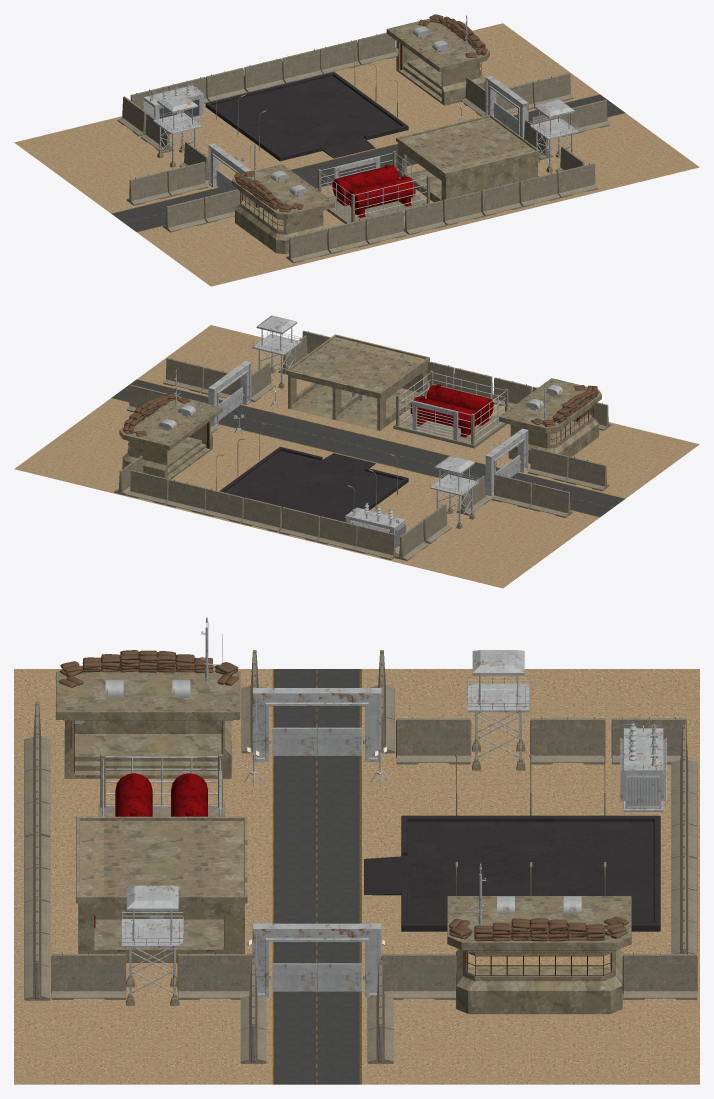
The model's file is Military_Post.glb.
3 views of the same model, one above another, from view 1: azimuth 30°, elevation 25°; view 2: azimuth 150°, elevation 25°; view 3: azimuth 270°, elevation 25° (orthographic). The views are drawn at different scales.
Parts seen in each view (by area): view 1: Ground, Parking, Garage, Military_Outpost_2, Military_Outpost_1, Tank, Watchtower_1, Watchtower_2, Transformer, Gate_4, Fence_30, Fence_1 (+24 smaller); view 2: Ground, Garage, Parking, Military_Outpost_2, Military_Outpost_1, Tank, Watchtower_1, Watchtower_2, Gate_1, Transformer, Fence_1, Fence_25 (+22 smaller); view 3: Ground, Parking, Military_Outpost_1, Garage, Military_Outpost_2, Tank, Watchtower_2, Watchtower_1, Gate_1, Gate_4, Transformer, Fence_28 (+28 smaller).
Part boxes in pixels (x1,y1,x2,y2): Ground: [14, 23, 699, 286]; Parking: [205, 48, 408, 161]; Garage: [396, 114, 539, 203]; Military_Outpost_2: [386, 14, 489, 105]; Military_Outpost_1: [232, 143, 334, 254]; Tank: [317, 150, 429, 224]; Watchtower_1: [153, 94, 202, 167]; Watchtower_2: [529, 99, 578, 172]; Transformer: [143, 83, 204, 119]; Gate_4: [485, 76, 528, 138]; Fence_30: [126, 171, 170, 205]; Fence_1: [163, 197, 206, 232]; Ground: [14, 325, 699, 588]; Garage: [286, 334, 429, 430]; Parking: [216, 423, 408, 521]; Military_Outpost_2: [119, 369, 222, 479]; Military_Outpost_1: [498, 378, 601, 463]; Tank: [393, 370, 508, 448]; Watchtower_1: [430, 456, 479, 528]; Watchtower_2: [252, 315, 301, 388]; Gate_1: [485, 428, 528, 496]; Transformer: [345, 502, 406, 550]; Fence_1: [565, 456, 609, 491]; Fence_25: [354, 525, 398, 559]; Ground: [14, 669, 699, 1084]; Parking: [364, 754, 660, 931]; Military_Outpost_1: [56, 617, 240, 778]; Garage: [76, 816, 247, 962]; Military_Outpost_2: [447, 863, 631, 1014]; Tank: [98, 754, 225, 816]; Watchtower_2: [121, 885, 183, 1005]; Watchtower_1: [467, 650, 530, 770]; Gate_1: [252, 688, 381, 761]; Gate_4: [252, 923, 381, 997]; Transformer: [620, 721, 666, 811]; Fence_28: [396, 718, 471, 764].
Size of the model in its own units: 53.09 by 8.29 by 37.03.
2 materials, 1 textured.
